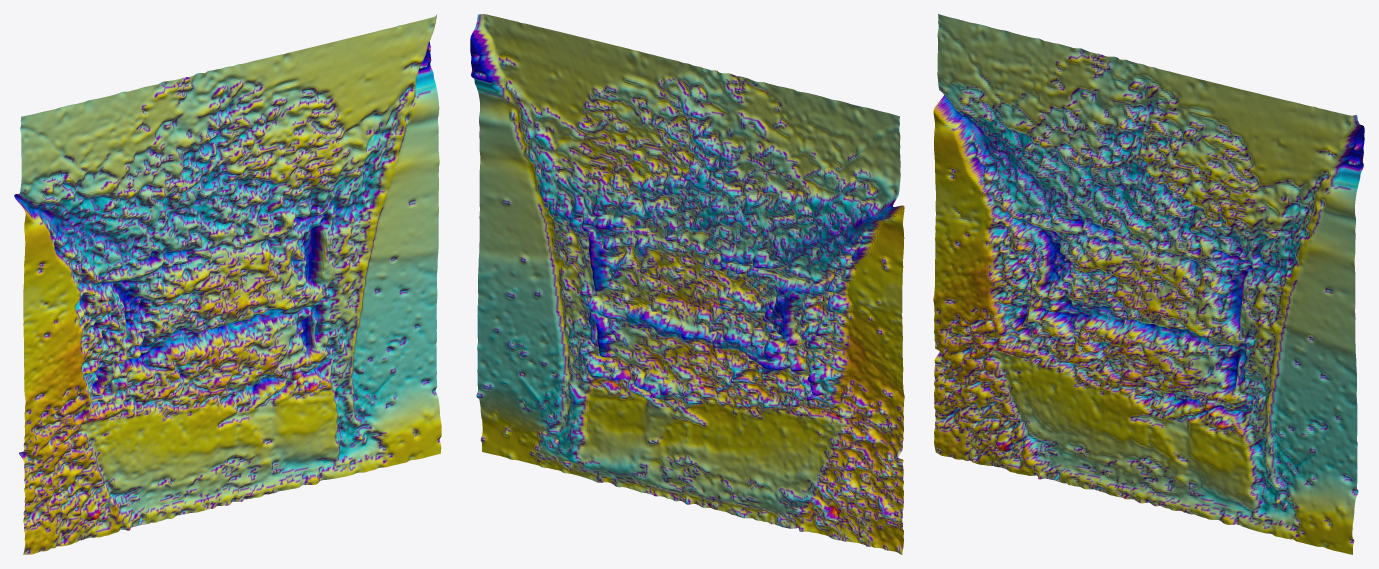
The picture shows the model from 3 angles, left to right: view 1: azimuth 30°, elevation 25°; view 2: azimuth 150°, elevation 25°; view 3: azimuth 330°, elevation 25°; orthographic projection.
Visible parts, largest first — view 1: world; view 2: world; view 3: world.
Boxes of the visible parts, box(x1,y1,x2,y2) form: world: box(14, 14, 441, 554); world: box(470, 14, 904, 554); world: box(933, 14, 1364, 554).
Bounding box in the file's own units: 299 × 299 × 19.5.
